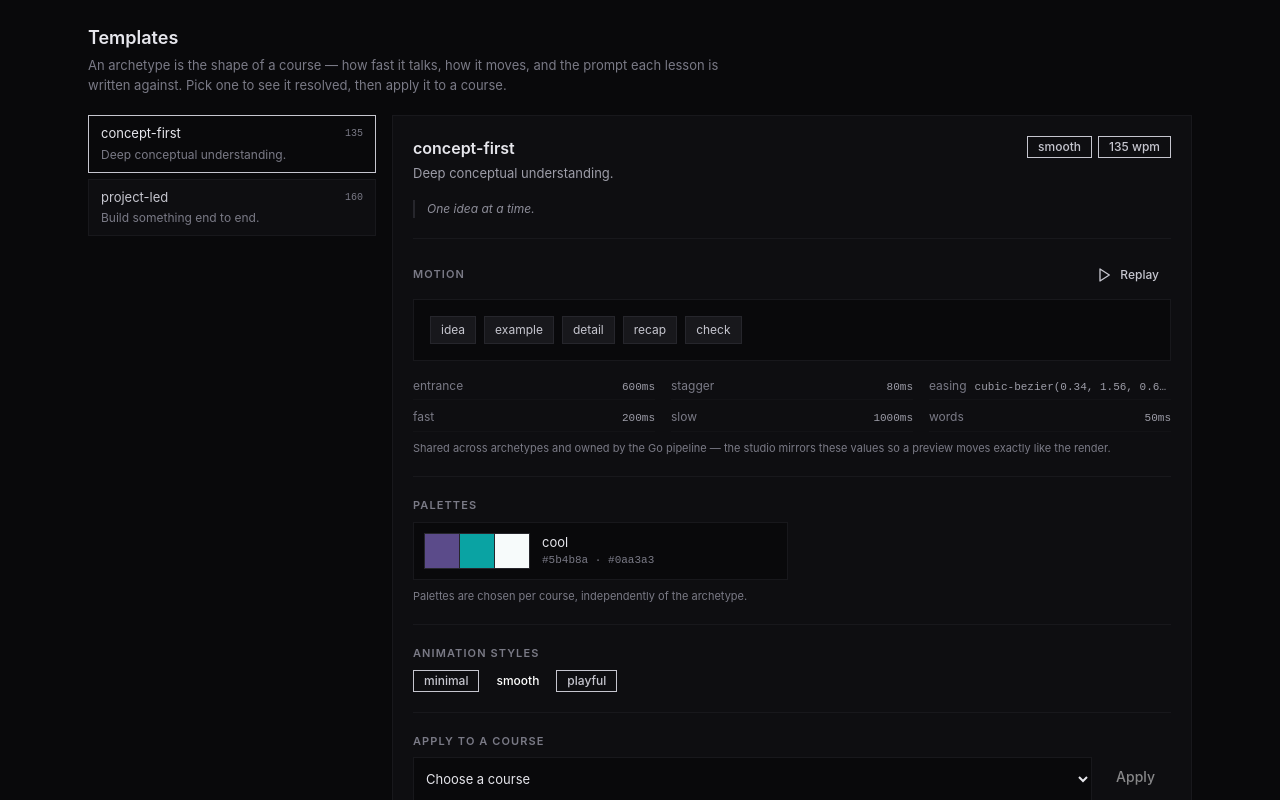
it: applies the selected archetype to a course through the real endpoint
The image size is (1280, 800).
Click the radio button labelled "project-led 160 Build something end to end." at (232, 207), box [88, 178, 376, 236]
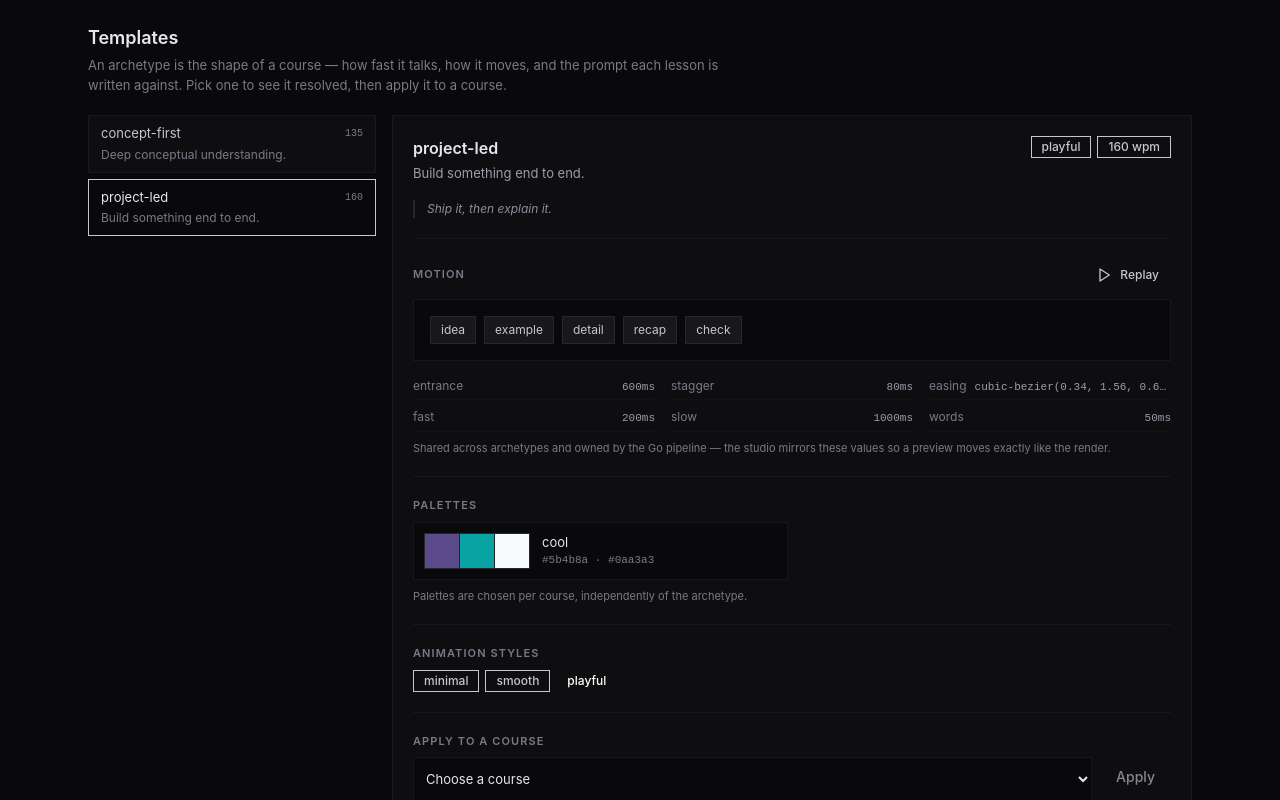
Select "Python Basics" in the dropdown named "Course" at (753, 779), box [413, 757, 1092, 799]
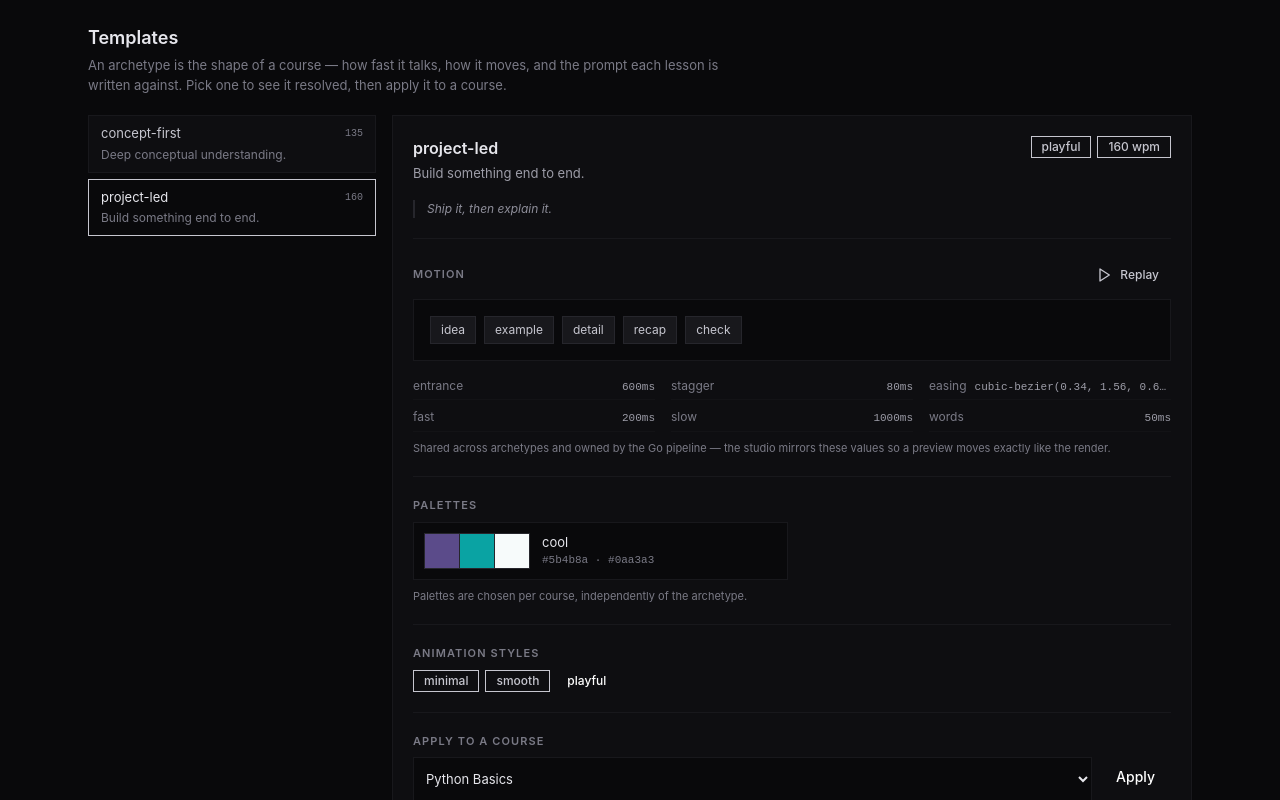
Click the button "Apply" at (1136, 777), box [1100, 757, 1171, 797]
(page scrolled)
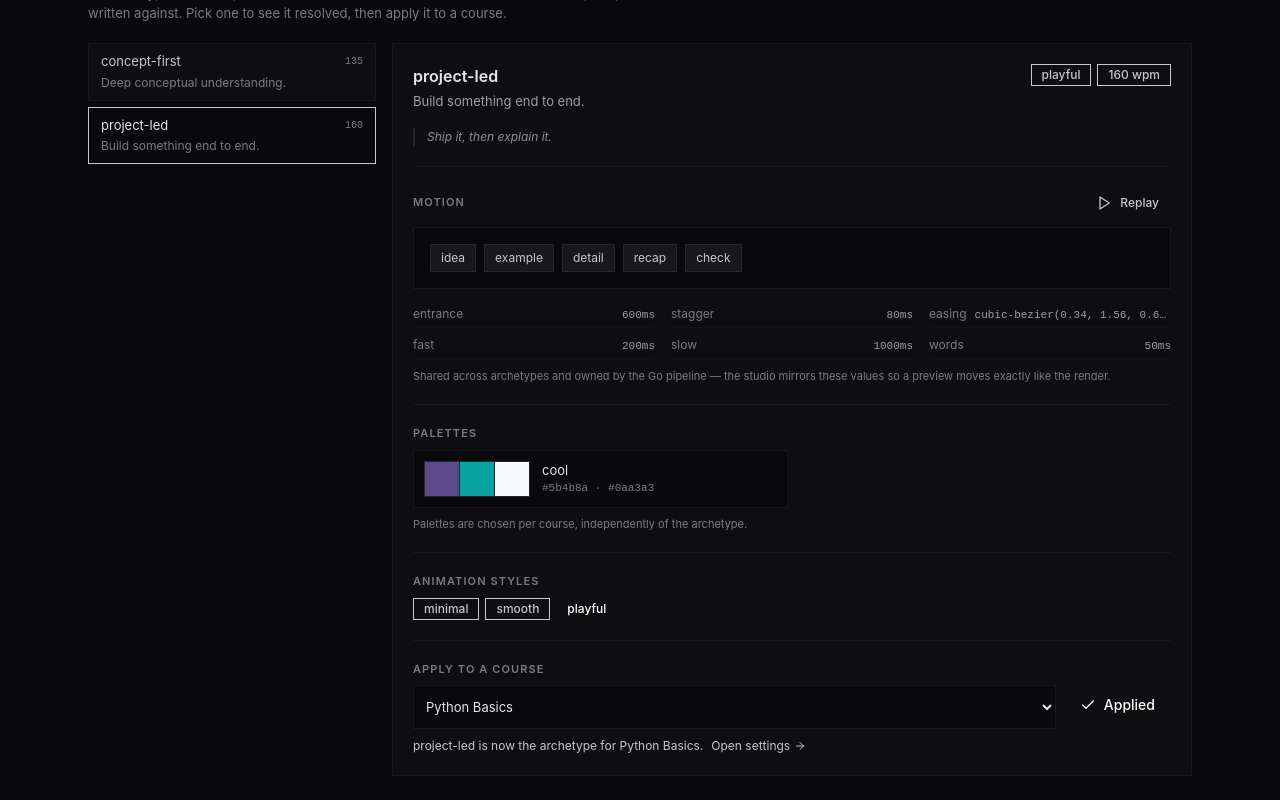
Result: the text "project-led is now the archetype for Python Basics." is shown at [413, 737, 703, 755]
